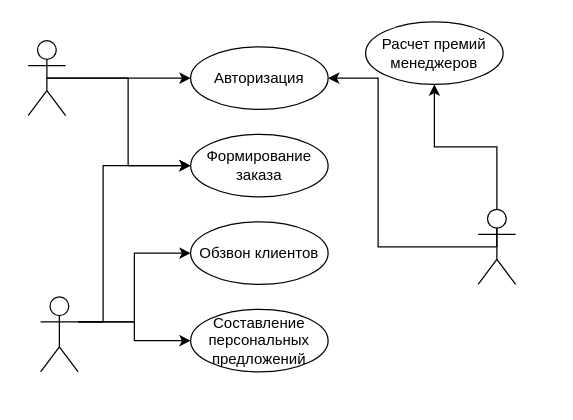
The diagram is 573 pixels wide and 420 high, and some of its shapes have lost their labels. Here are the shapes that lost their labels. From the top down, the centre of each, then its label:
At point 46,77: "Клиент".
At point 496,246: "Администратор".
At point 58,334: "Менеджер".
